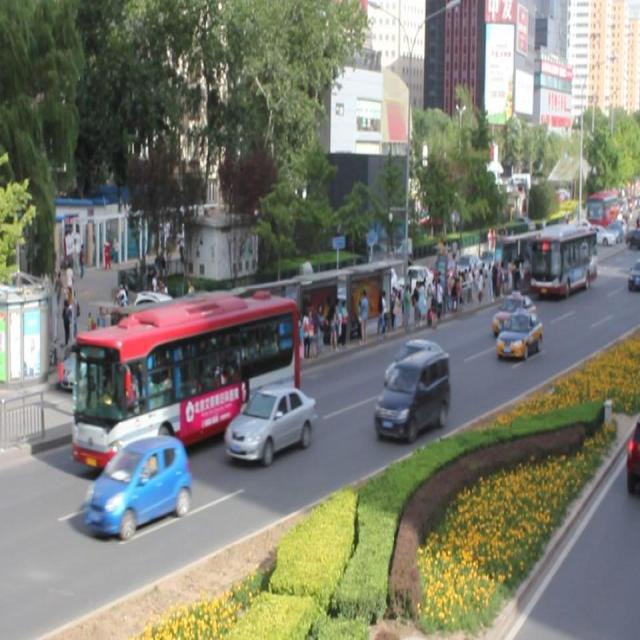car: (84, 436, 190, 533), (225, 383, 315, 461), (381, 339, 447, 392), (495, 310, 542, 358), (492, 292, 535, 333)
truck: (373, 347, 448, 435)
van: (75, 291, 296, 457), (530, 224, 596, 292)
